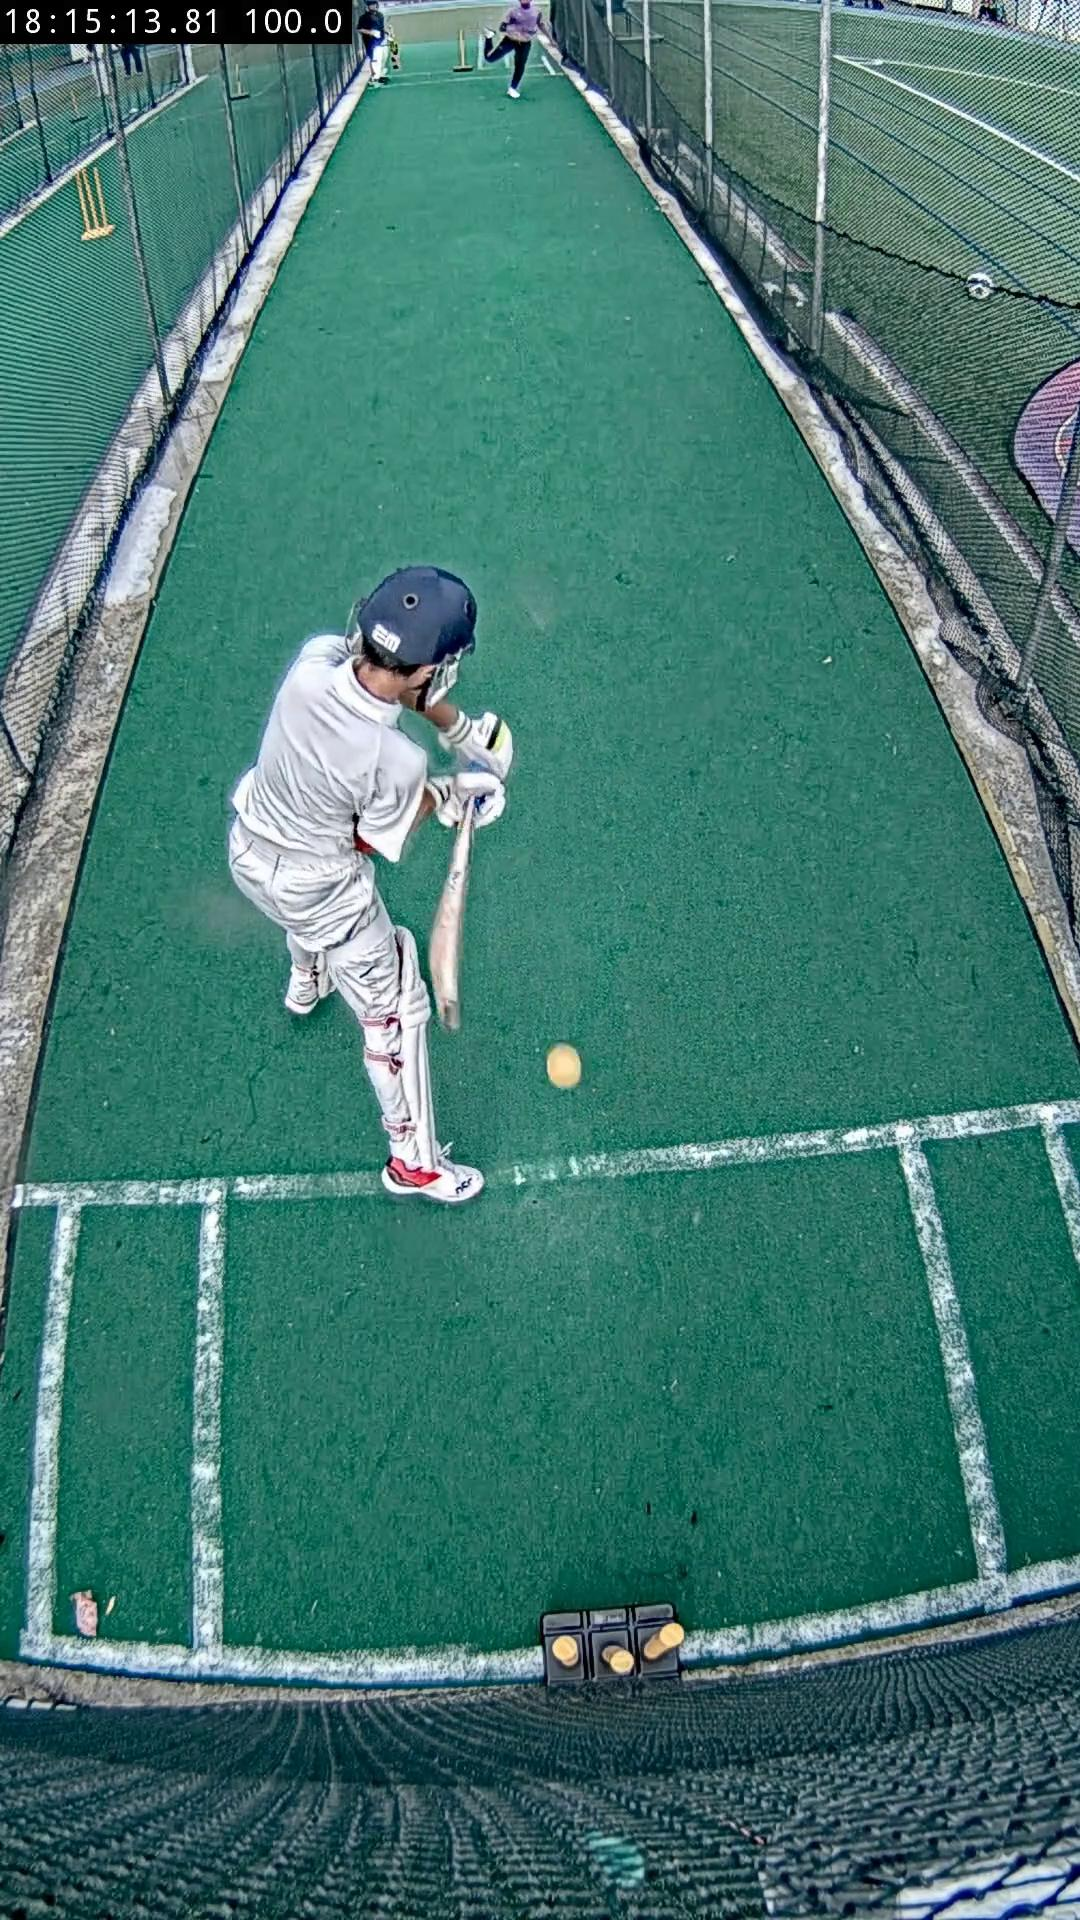ball: (547, 1043, 582, 1088)
bat: (427, 799, 476, 1031)
gloves: (439, 712, 514, 781), (427, 773, 506, 828)
helmet: (356, 566, 476, 663)
pads: (394, 926, 443, 1170)
stumps: (541, 1605, 686, 1684)
